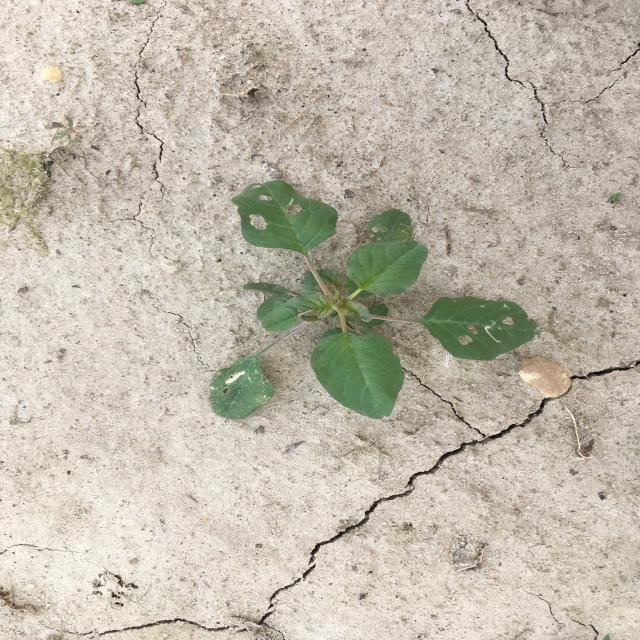PalmerAmaranth: (209, 180, 537, 420)
